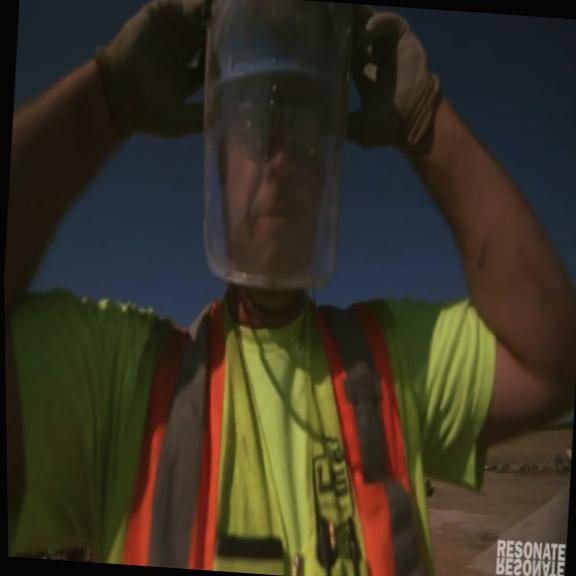safety_vest: (4, 269, 505, 576)
